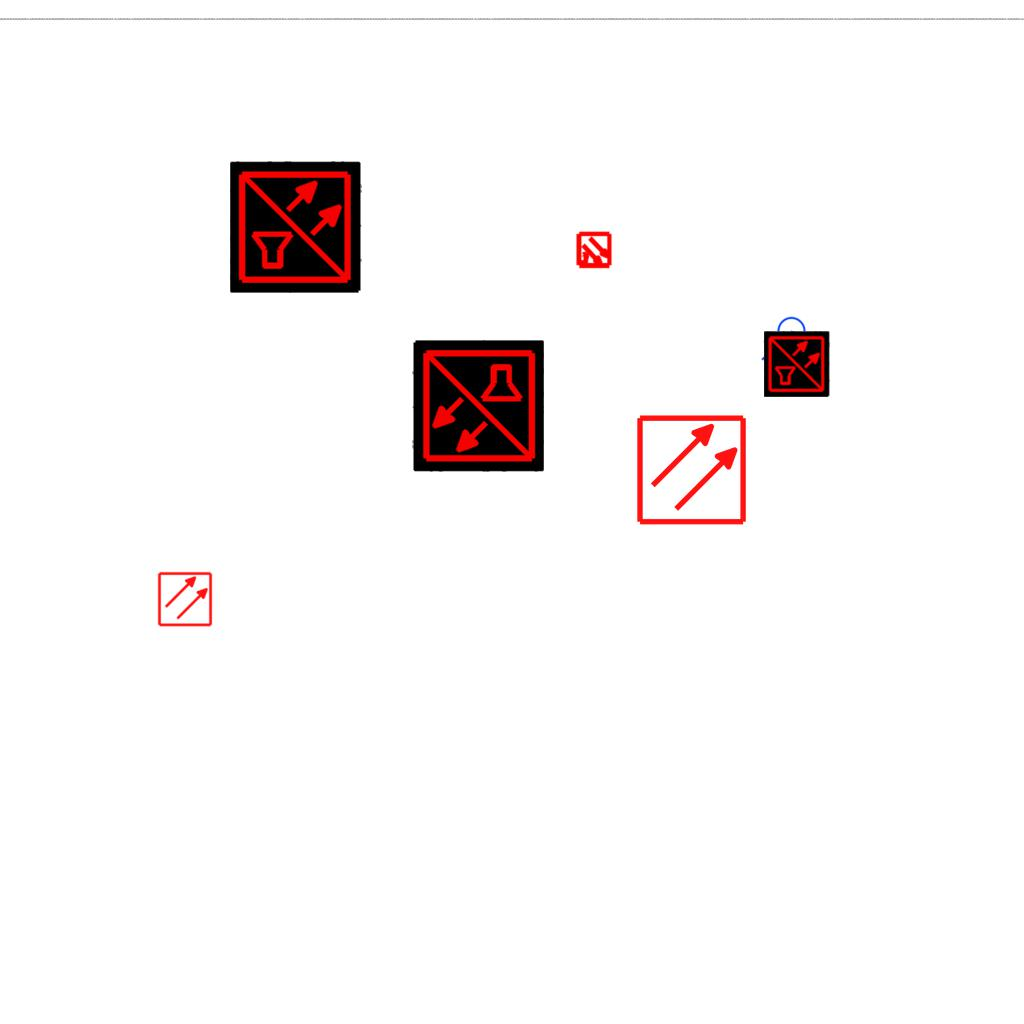Elektroanschluss_allgemein_230V_Geraeteanschlussdose_230V: (761, 316, 810, 363)
OKW_Multisensormelder_(Kombination_optischer_Rauch-Kahlenmonoxid_Waerme-Melder): (230, 161, 362, 293), (412, 340, 544, 472), (764, 331, 830, 397)
OT_Multisensormelder_(Kombination_RMO_WMD): (566, 223, 622, 279)
RMO_Rauchmelder_optischer: (635, 413, 748, 526), (157, 571, 213, 627)
